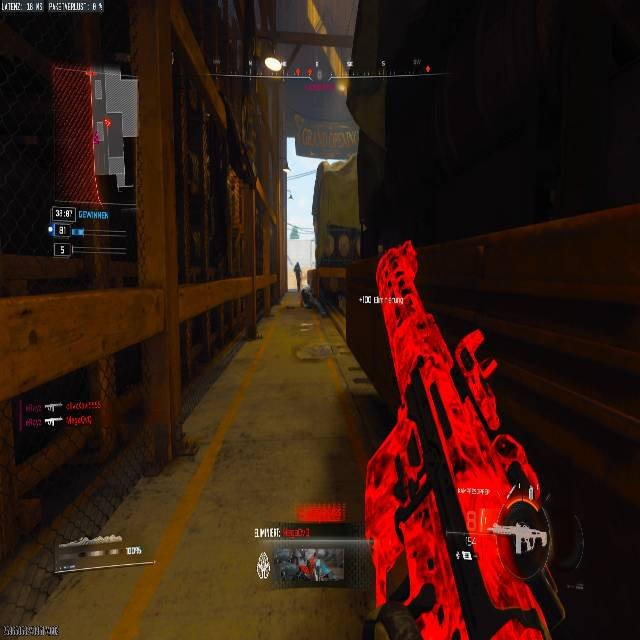player: (293, 262, 301, 288)
